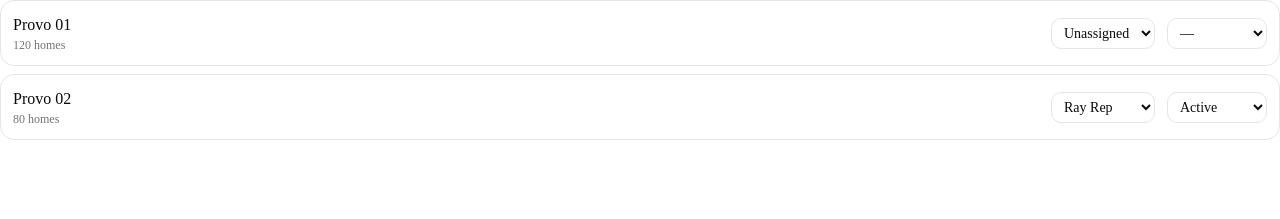
Test case: TerritoriesClient › shows an error banner when a PATCH fails
Expected: the text "Provo 01" is shown, [13,16,71,33]
Select "Active" in the dropdown named "Status for Provo 01". click: x=1217, y=33
box: [1167,18,1267,48]
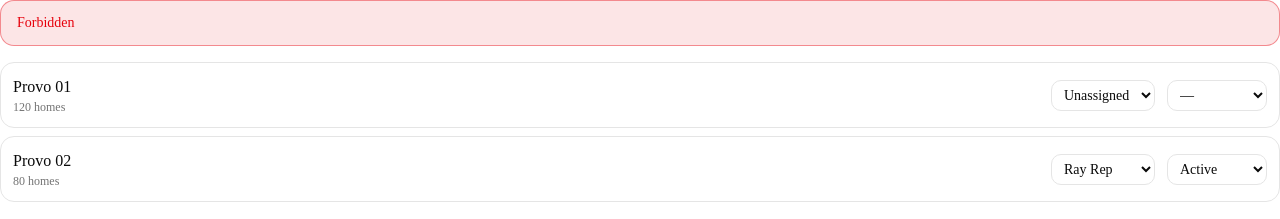
Expected: the text "Forbidden" is shown, [0,0,1279,46]
